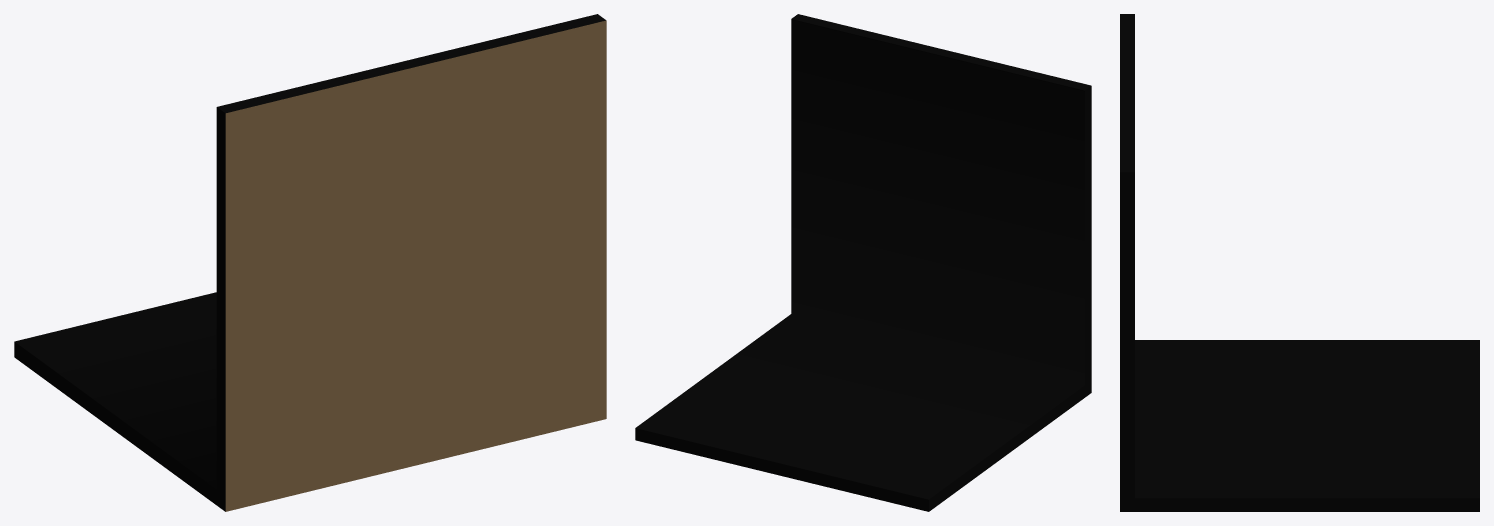
Rendered from M_Corner_Ext_5x5_CUTOFF.fbx.
3 renders of one model, left to right at view 1: azimuth 30°, elevation 25°; view 2: azimuth 150°, elevation 25°; view 3: azimuth 270°, elevation 25°, orthographic. The views are drawn at different scales.
Parts seen in each view (by area): view 1: M_Corner_Ext_5x5_CUTOFF; view 2: M_Corner_Ext_5x5_CUTOFF; view 3: M_Corner_Ext_5x5_CUTOFF.
Boxes of the visible parts, x1=… form: M_Corner_Ext_5x5_CUTOFF: x1=14, y1=14, x2=606, y2=511; M_Corner_Ext_5x5_CUTOFF: x1=635, y1=14, x2=1091, y2=511; M_Corner_Ext_5x5_CUTOFF: x1=1120, y1=14, x2=1479, y2=511.
Bounding box in the file's own units: 500 × 500 × 480.
